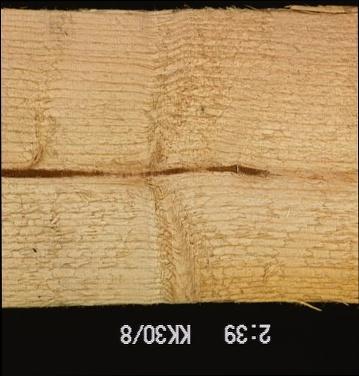split: (2, 164, 308, 186), (282, 8, 357, 20)
